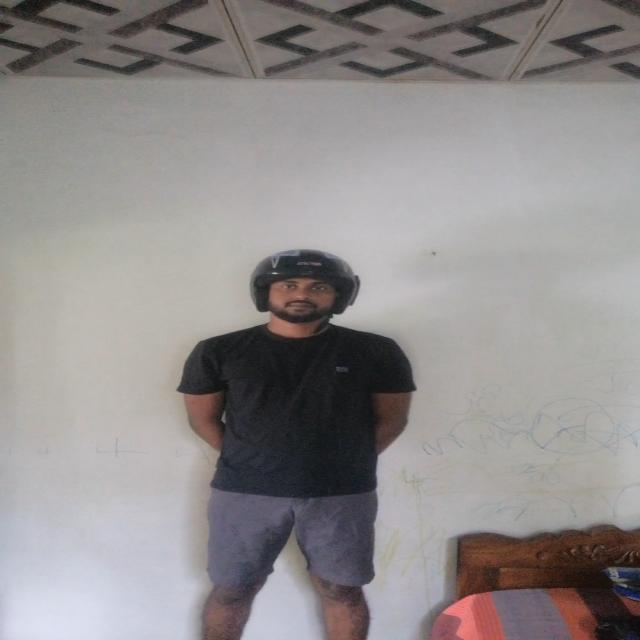Helmet_Wearer: (241, 247, 375, 349)
Person: (173, 251, 414, 640)
